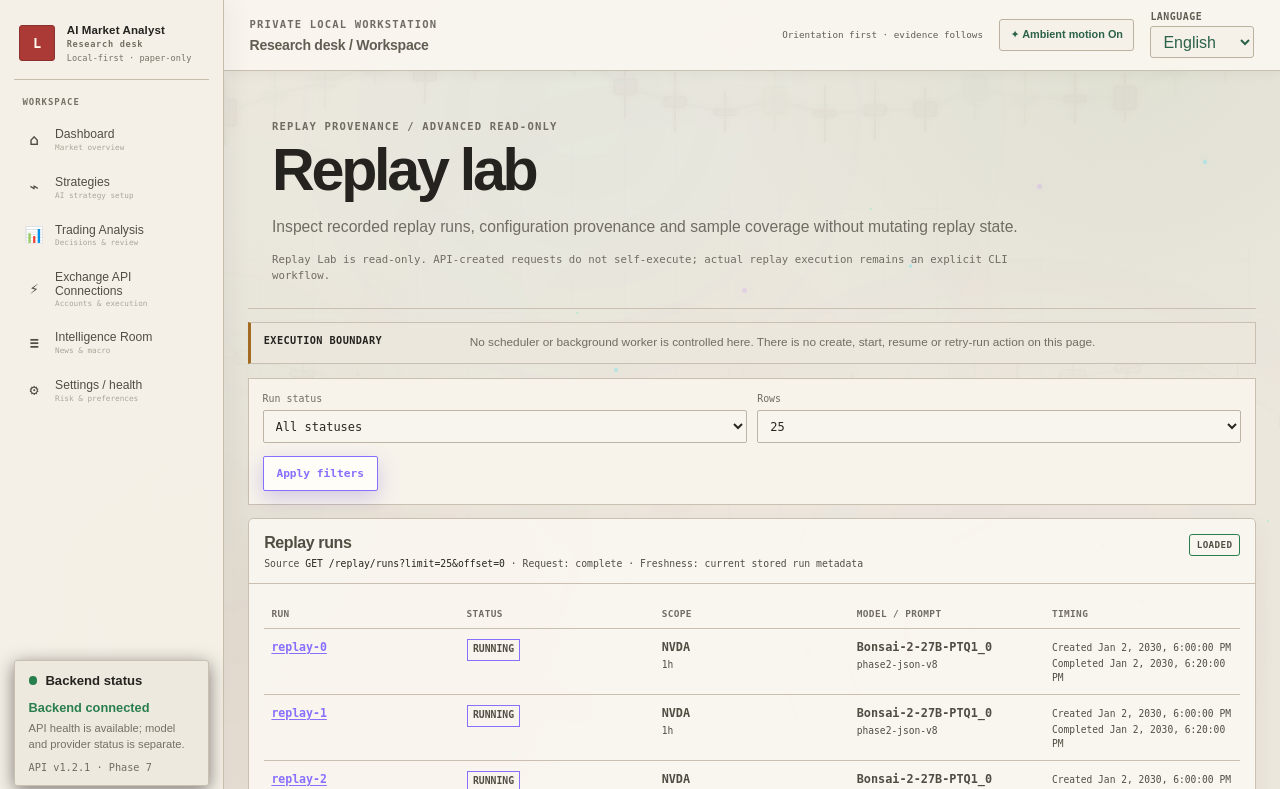
Scenario: ReplayLabPage › filters and paginates bounded run rows, then loads allowlisted detail
The image size is (1280, 789).
Check: the button "replay-0" is shown, box [271,638,327,655]
Select "RUNNING" in the dropdown labelled "Run status" at x=505, y=427, box [263,410,747,443]
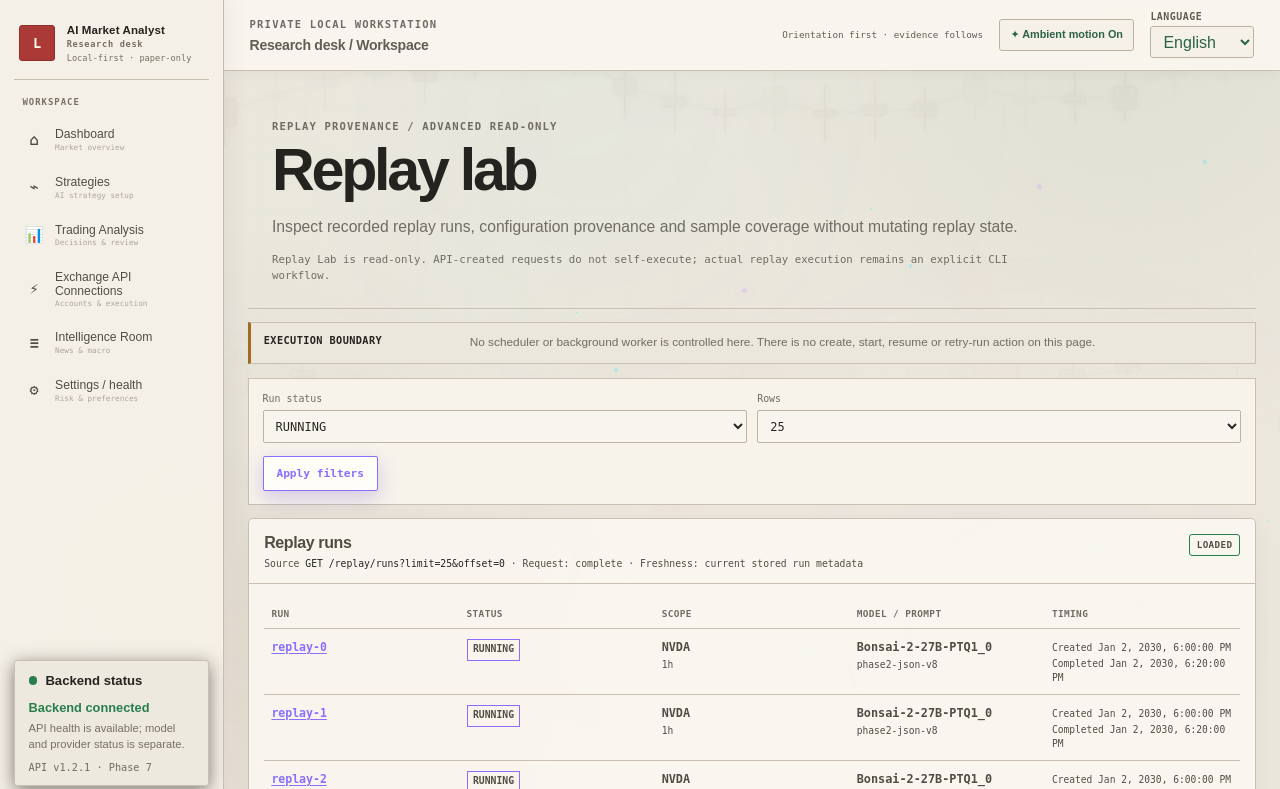
Click the button "Apply filters".
click(320, 473)  # box [263,456,378,491]
(page scrolled)
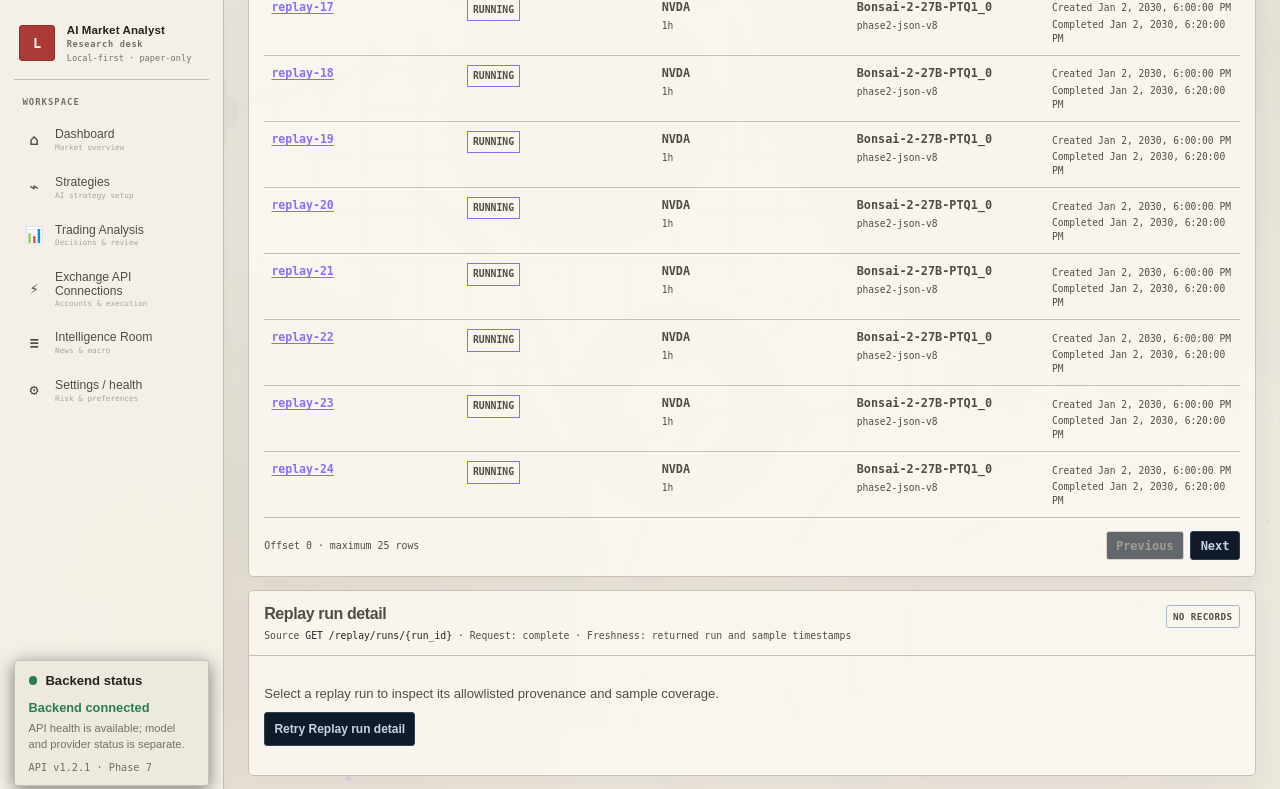
Click the button "Next".
click(1215, 546)  # box [1190,531,1240,560]
(page scrolled)
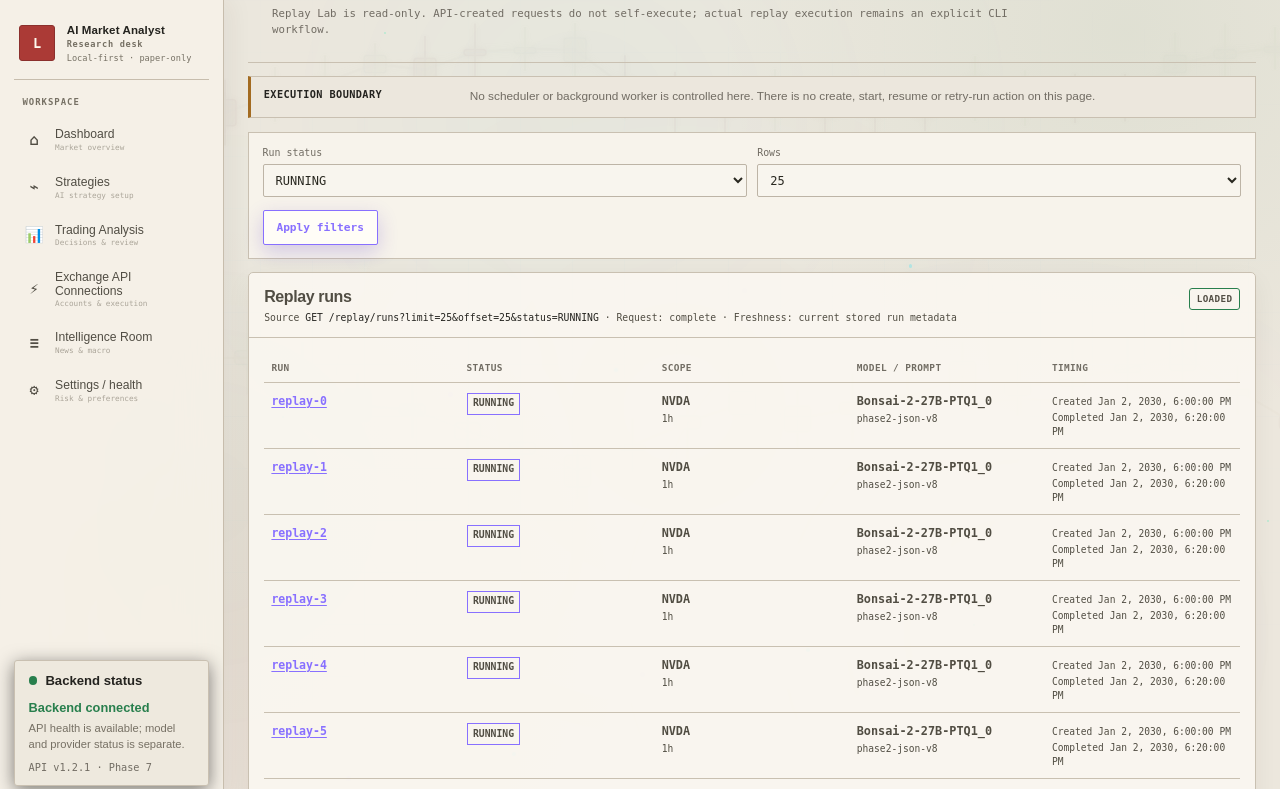
Click the button "replay-0".
click(299, 401)  # box [271,392,327,409]
(page scrolled)
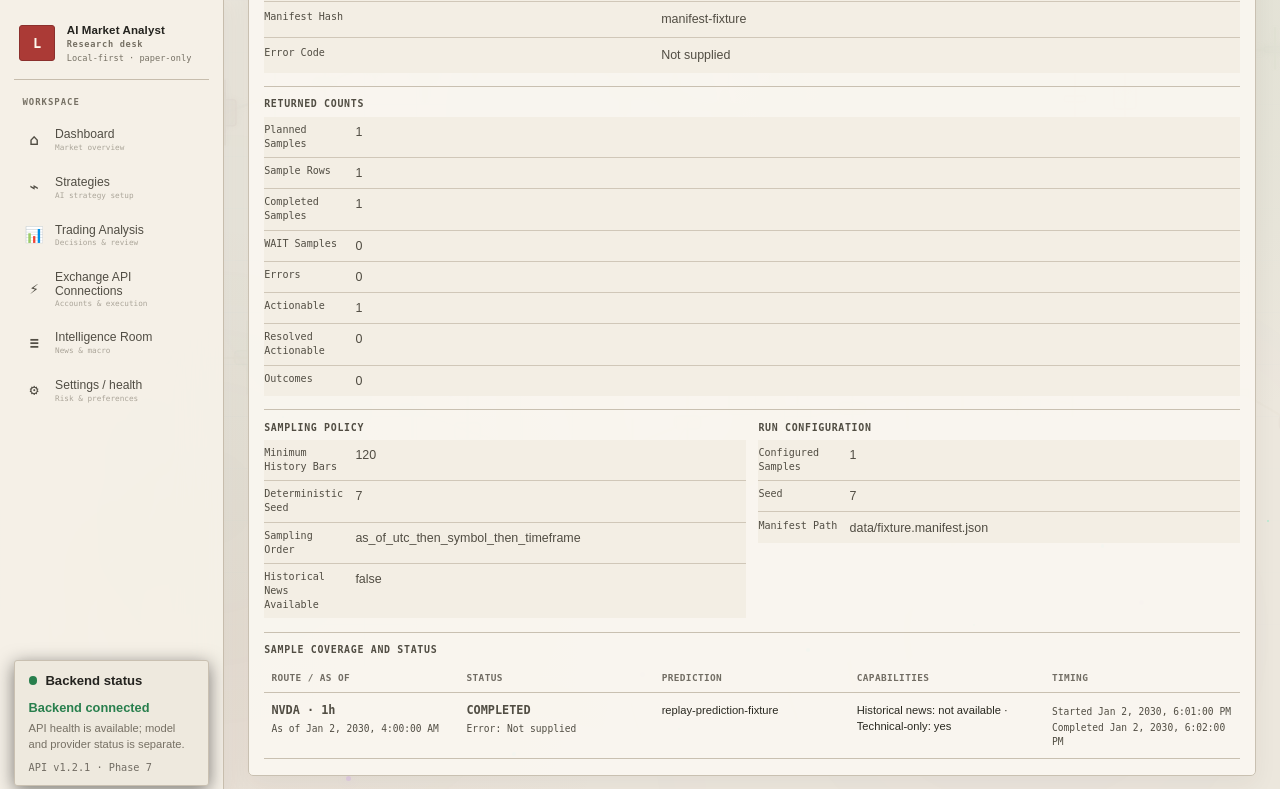
Check: the text "manifest-fixture" is shown, box [661,12,746,26]
Check: the text "Minimum history bars" is shown, box [264,446,344,474]
Check: the text "Sample coverage and status" is shown, box [264,644,437,655]
